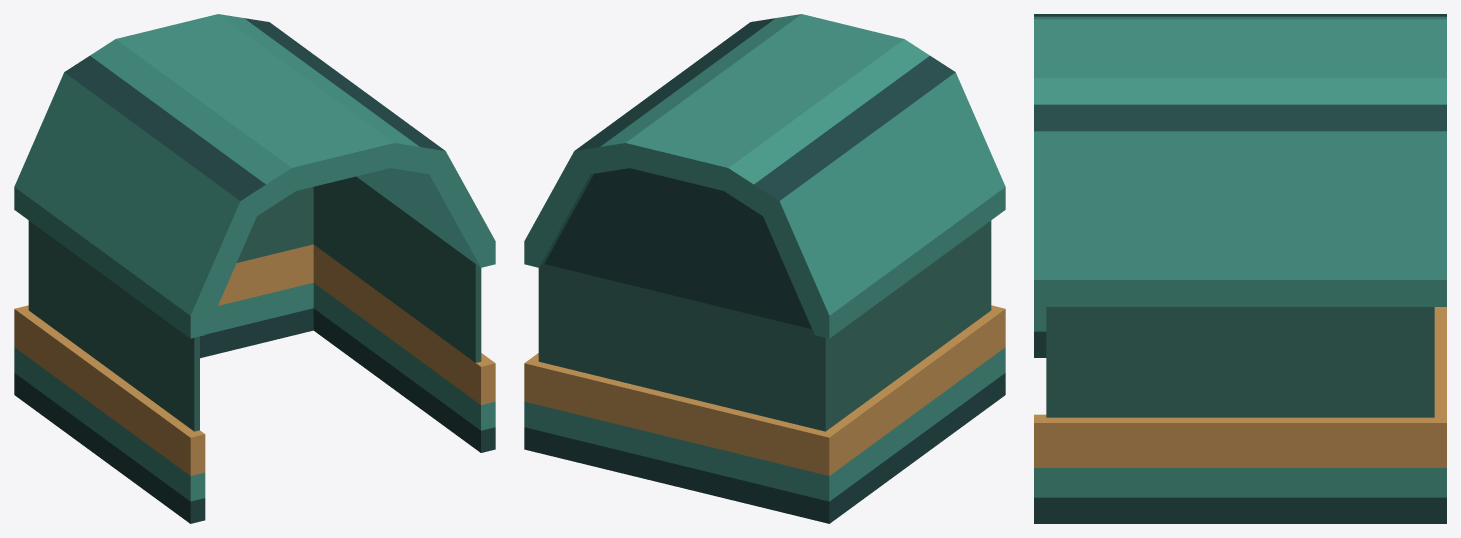
File: buildingCorridorOpenEnd.glb
The picture shows the model from 3 angles, left to right: view 1: azimuth 30°, elevation 25°; view 2: azimuth 150°, elevation 25°; view 3: azimuth 270°, elevation 25°; orthographic projection. The views are drawn at different scales.
Visible parts, largest first — view 1: buildingCorridorOpenEnd; view 2: buildingCorridorOpenEnd; view 3: buildingCorridorOpenEnd.
Boxes of the visible parts, x1=… form: buildingCorridorOpenEnd: x1=14, y1=14, x2=495, y2=523; buildingCorridorOpenEnd: x1=524, y1=14, x2=1005, y2=523; buildingCorridorOpenEnd: x1=1034, y1=14, x2=1446, y2=523.
Size of the model in its own units: 1 by 1.04 by 1.
